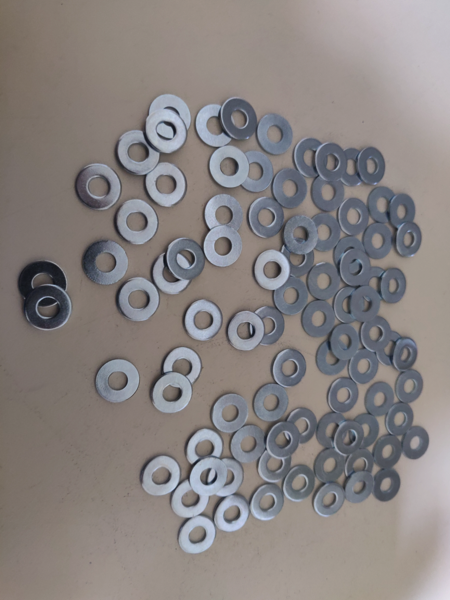circle: (74, 163, 122, 212), (25, 284, 72, 332), (19, 261, 67, 306), (115, 199, 160, 246), (209, 145, 251, 195), (83, 240, 128, 286), (94, 359, 140, 404), (145, 164, 189, 210), (117, 130, 161, 175), (143, 109, 187, 154), (117, 278, 161, 322), (149, 94, 191, 140), (196, 103, 237, 149), (246, 195, 287, 241), (220, 96, 259, 143), (202, 193, 244, 236), (153, 253, 194, 296), (202, 226, 243, 269), (152, 371, 193, 413), (309, 171, 349, 214), (256, 112, 294, 157), (272, 166, 309, 212), (183, 300, 223, 342), (163, 348, 203, 389), (142, 455, 182, 496), (252, 250, 292, 291), (171, 478, 210, 519), (166, 238, 204, 280), (207, 460, 244, 503), (177, 516, 217, 555), (190, 457, 228, 498), (238, 152, 276, 193), (313, 140, 348, 184), (228, 311, 264, 353), (230, 424, 266, 466), (283, 214, 319, 256), (274, 275, 310, 317), (306, 262, 342, 304), (250, 306, 286, 348), (212, 495, 250, 534), (212, 393, 249, 433), (300, 300, 337, 340), (264, 421, 301, 460), (295, 137, 329, 179), (187, 429, 224, 467), (252, 384, 288, 422), (282, 238, 316, 278), (337, 197, 370, 238), (273, 349, 307, 388), (316, 410, 350, 449), (367, 184, 399, 225), (314, 448, 350, 484), (284, 408, 318, 446), (360, 314, 393, 353), (357, 145, 388, 186), (311, 212, 342, 253), (249, 485, 284, 521), (388, 191, 420, 230), (375, 329, 407, 368), (339, 147, 369, 188), (312, 483, 347, 518), (259, 446, 292, 483), (350, 286, 383, 323), (331, 285, 364, 322), (384, 400, 417, 436), (349, 348, 381, 385), (285, 465, 316, 503), (363, 222, 394, 260), (340, 248, 371, 286), (318, 340, 349, 378), (370, 469, 404, 503), (334, 420, 365, 457), (334, 237, 365, 274), (331, 323, 361, 361), (344, 470, 375, 506), (329, 377, 359, 414), (353, 413, 381, 452), (345, 448, 376, 483), (365, 382, 396, 417), (401, 426, 431, 462), (395, 221, 424, 258), (359, 264, 387, 301), (381, 268, 409, 304), (375, 434, 403, 469), (397, 369, 424, 405), (393, 337, 418, 374)
